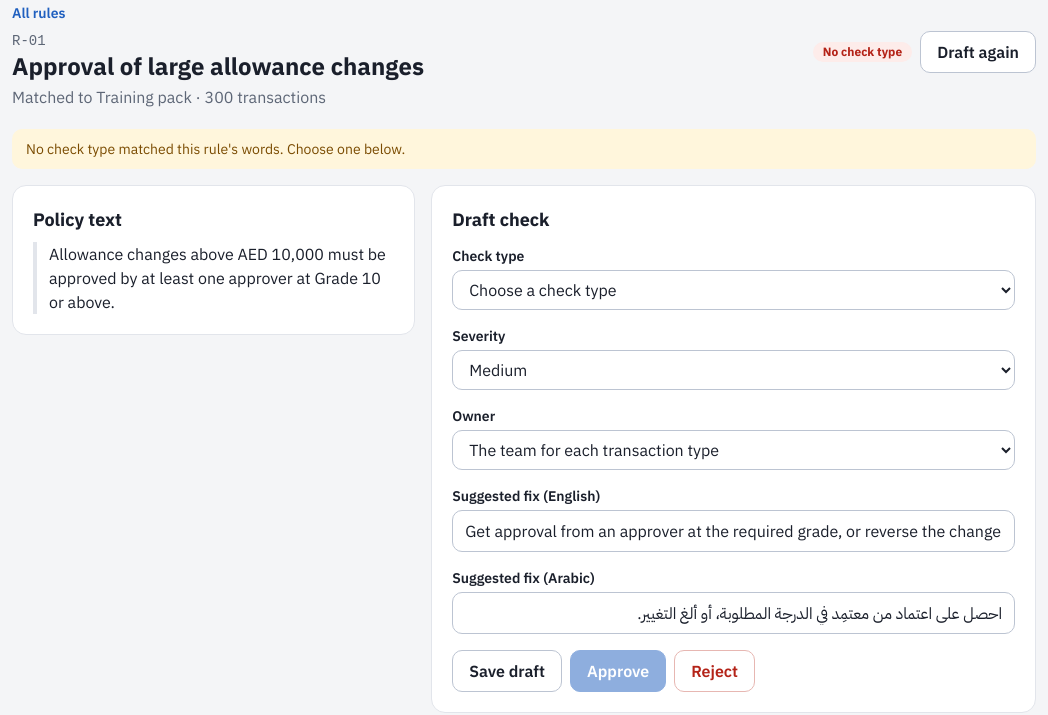
Test: RulePage › lets the admin choose a check type when none matched
Check: the text "No check type matched this rule's words. Choose one below." is shown, box [12,129,1036,169]
Select "Requester isn't an approver" in the dropdown labelled "Check type" at (734, 290), box [452,270,1015,310]
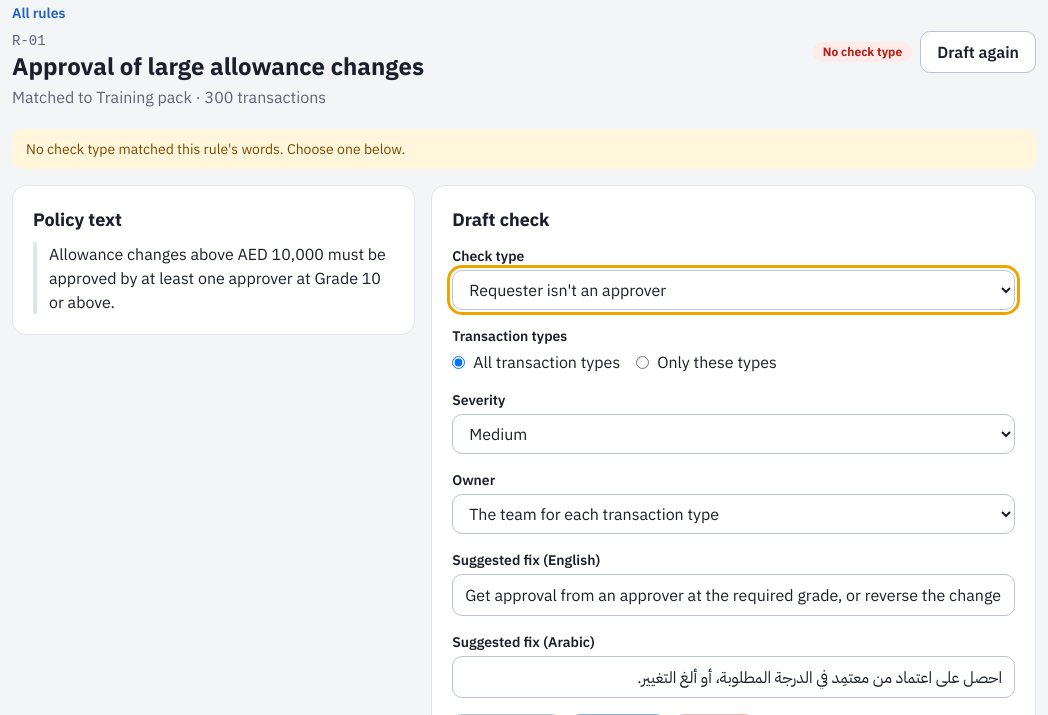
Check: the radio button labelled "All transaction types" is checked, box [452,356,465,368]
